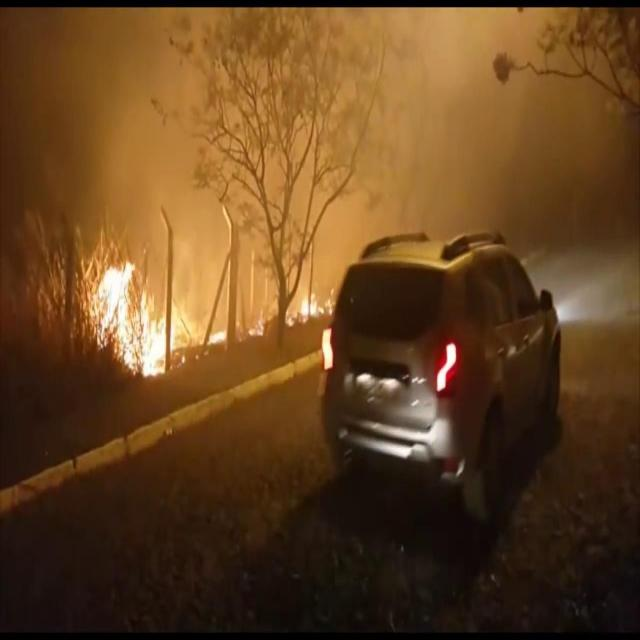Fire: (90, 256, 184, 376), (302, 289, 326, 322), (205, 329, 227, 347)
